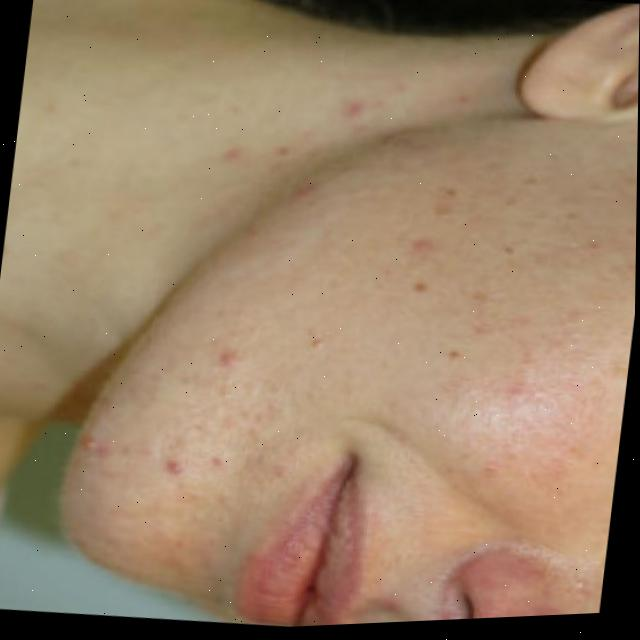Acne: (343, 220, 593, 490)
